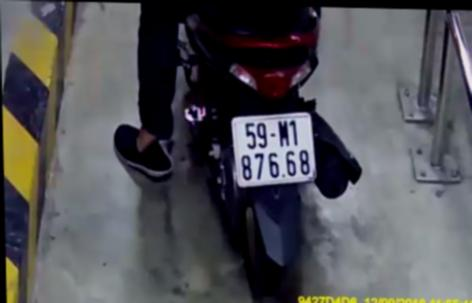License_Plate: (226, 107, 321, 193)
